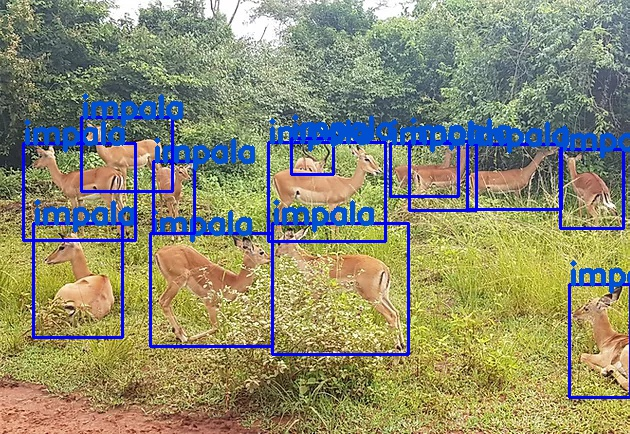impala: (272, 223, 408, 354), (150, 233, 272, 346), (268, 141, 384, 240), (23, 142, 135, 239), (33, 222, 122, 336), (568, 283, 629, 396), (81, 117, 172, 191), (467, 143, 560, 209), (560, 149, 623, 228), (409, 141, 475, 210), (389, 142, 458, 196), (153, 160, 193, 233), (290, 138, 333, 173)
